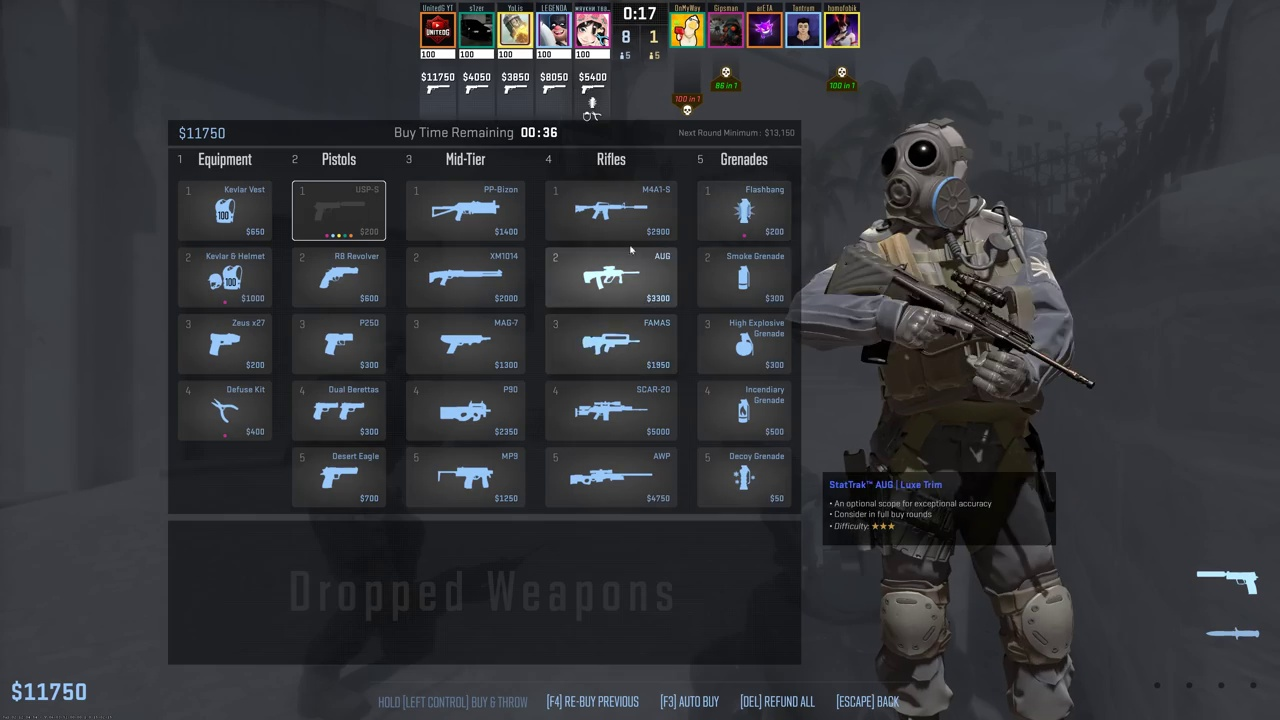CT: (855, 124, 1075, 718)
